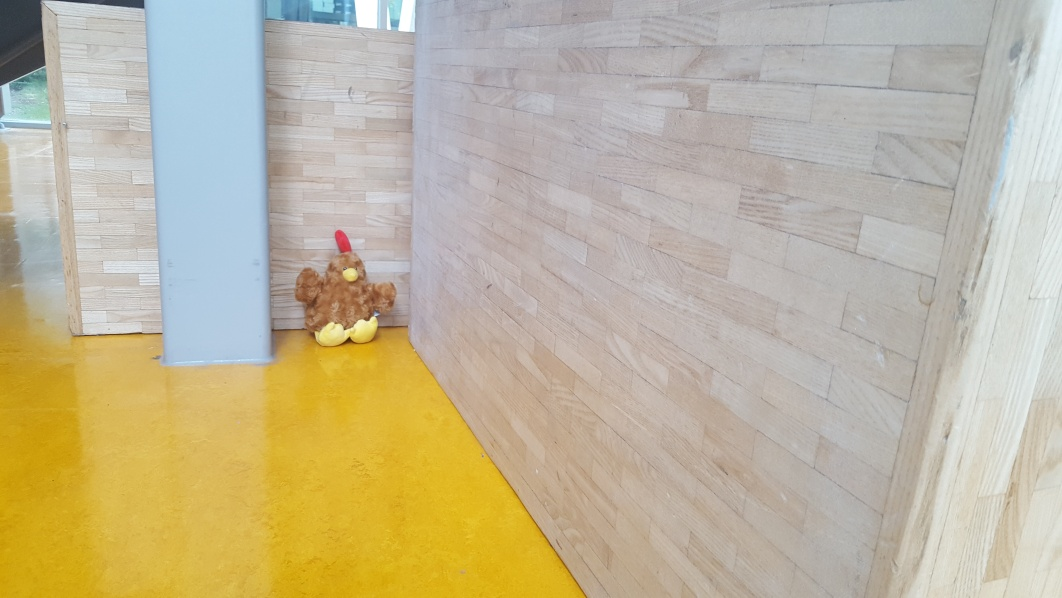chicken: (296, 231, 398, 346)
